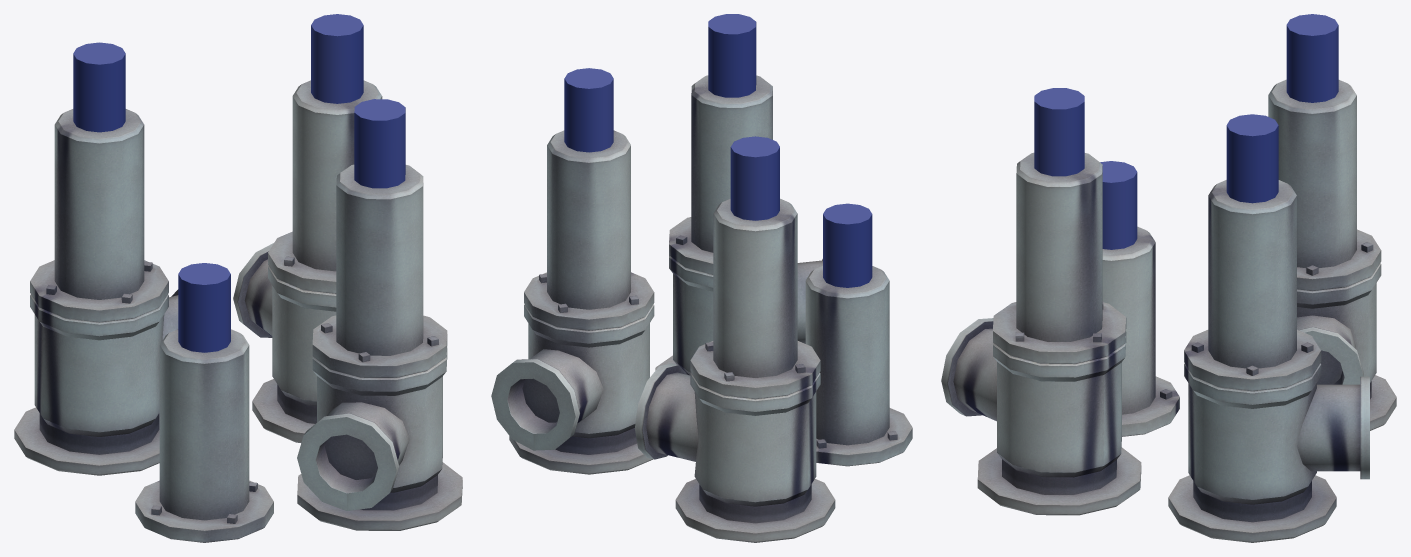
The model's file is Q_PSVValve.fbx.
3 views of the same model, side by side, from view 1: azimuth 30°, elevation 25°; view 2: azimuth 150°, elevation 25°; view 3: azimuth 270°, elevation 25° (orthographic). The views are drawn at different scales.
Visible parts, largest first — view 1: q_PSVvalve; view 2: q_PSVvalve; view 3: q_PSVvalve.
Part boxes in pixels (x1,y1,x2,y2): q_PSVvalve: (14, 14, 462, 542); q_PSVvalve: (491, 14, 912, 542); q_PSVvalve: (941, 14, 1396, 542).
Size of the model in its own units: 3.39 by 3.54 by 3.81.
